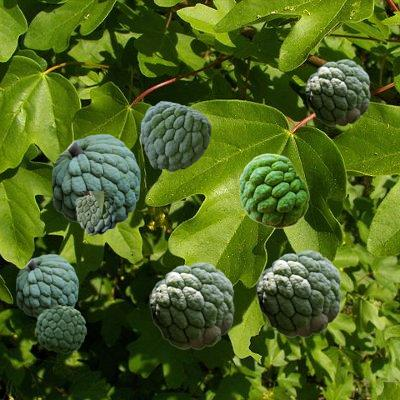atis: (52, 134, 139, 228), (256, 250, 340, 336), (149, 262, 233, 348), (239, 153, 308, 227), (140, 101, 210, 170), (305, 59, 369, 125), (16, 254, 77, 318), (75, 191, 137, 234), (35, 305, 85, 352)
